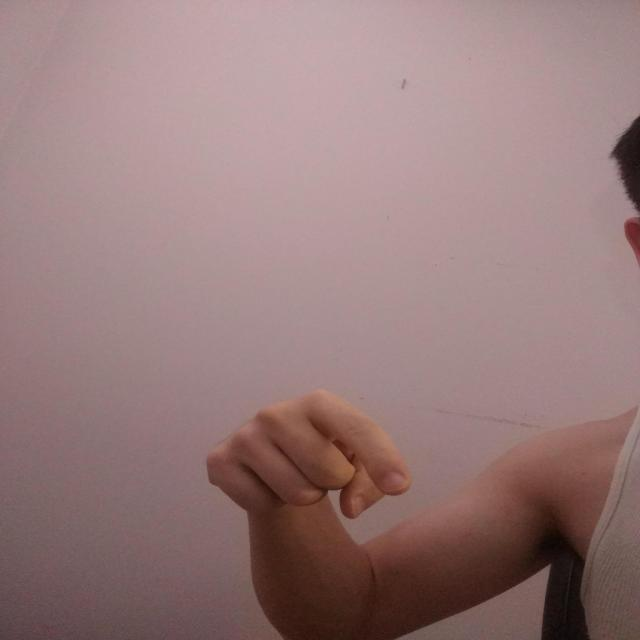Z: (200, 390, 418, 522)
